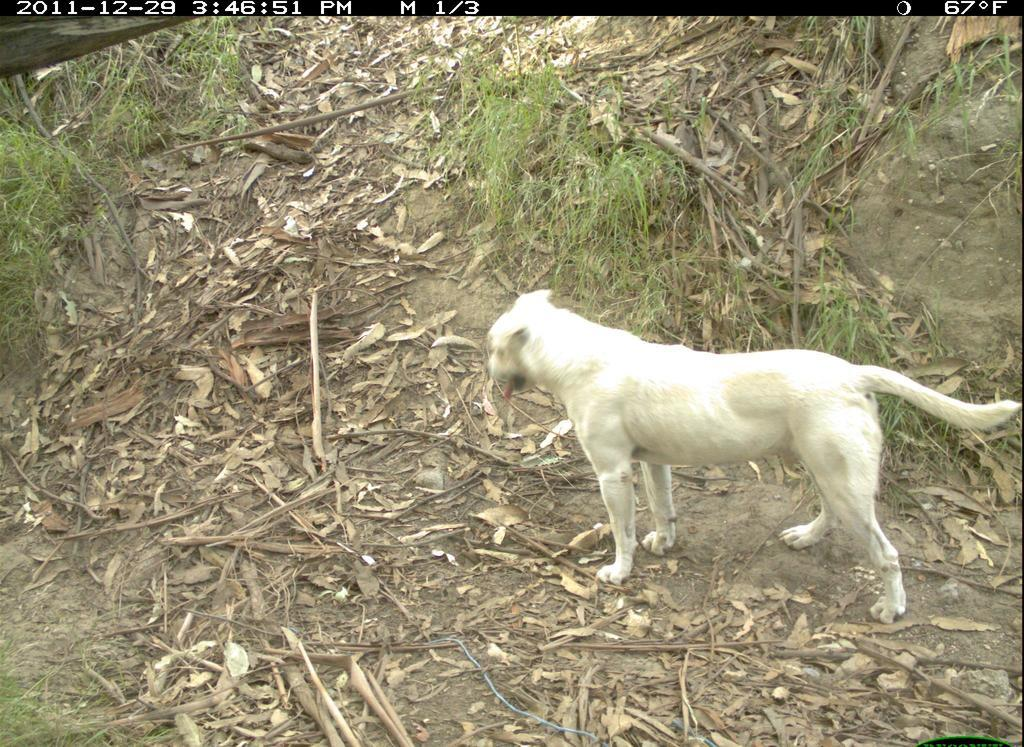dog: (477, 276, 1023, 641)
